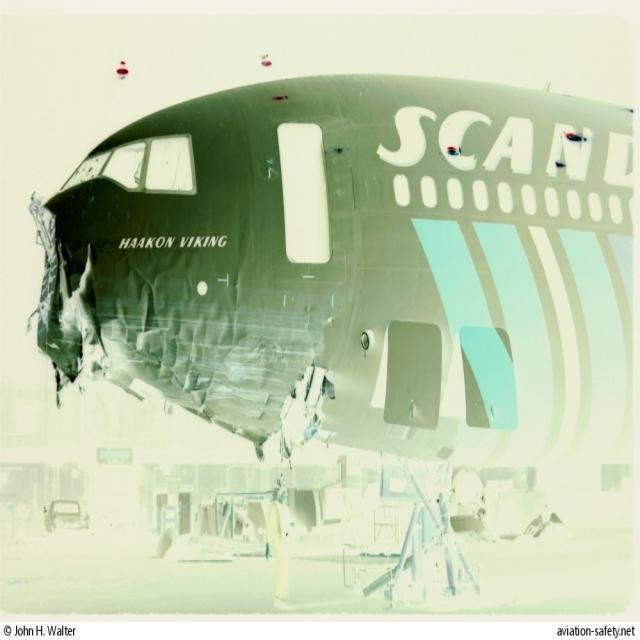dent: (110, 259, 293, 423)
